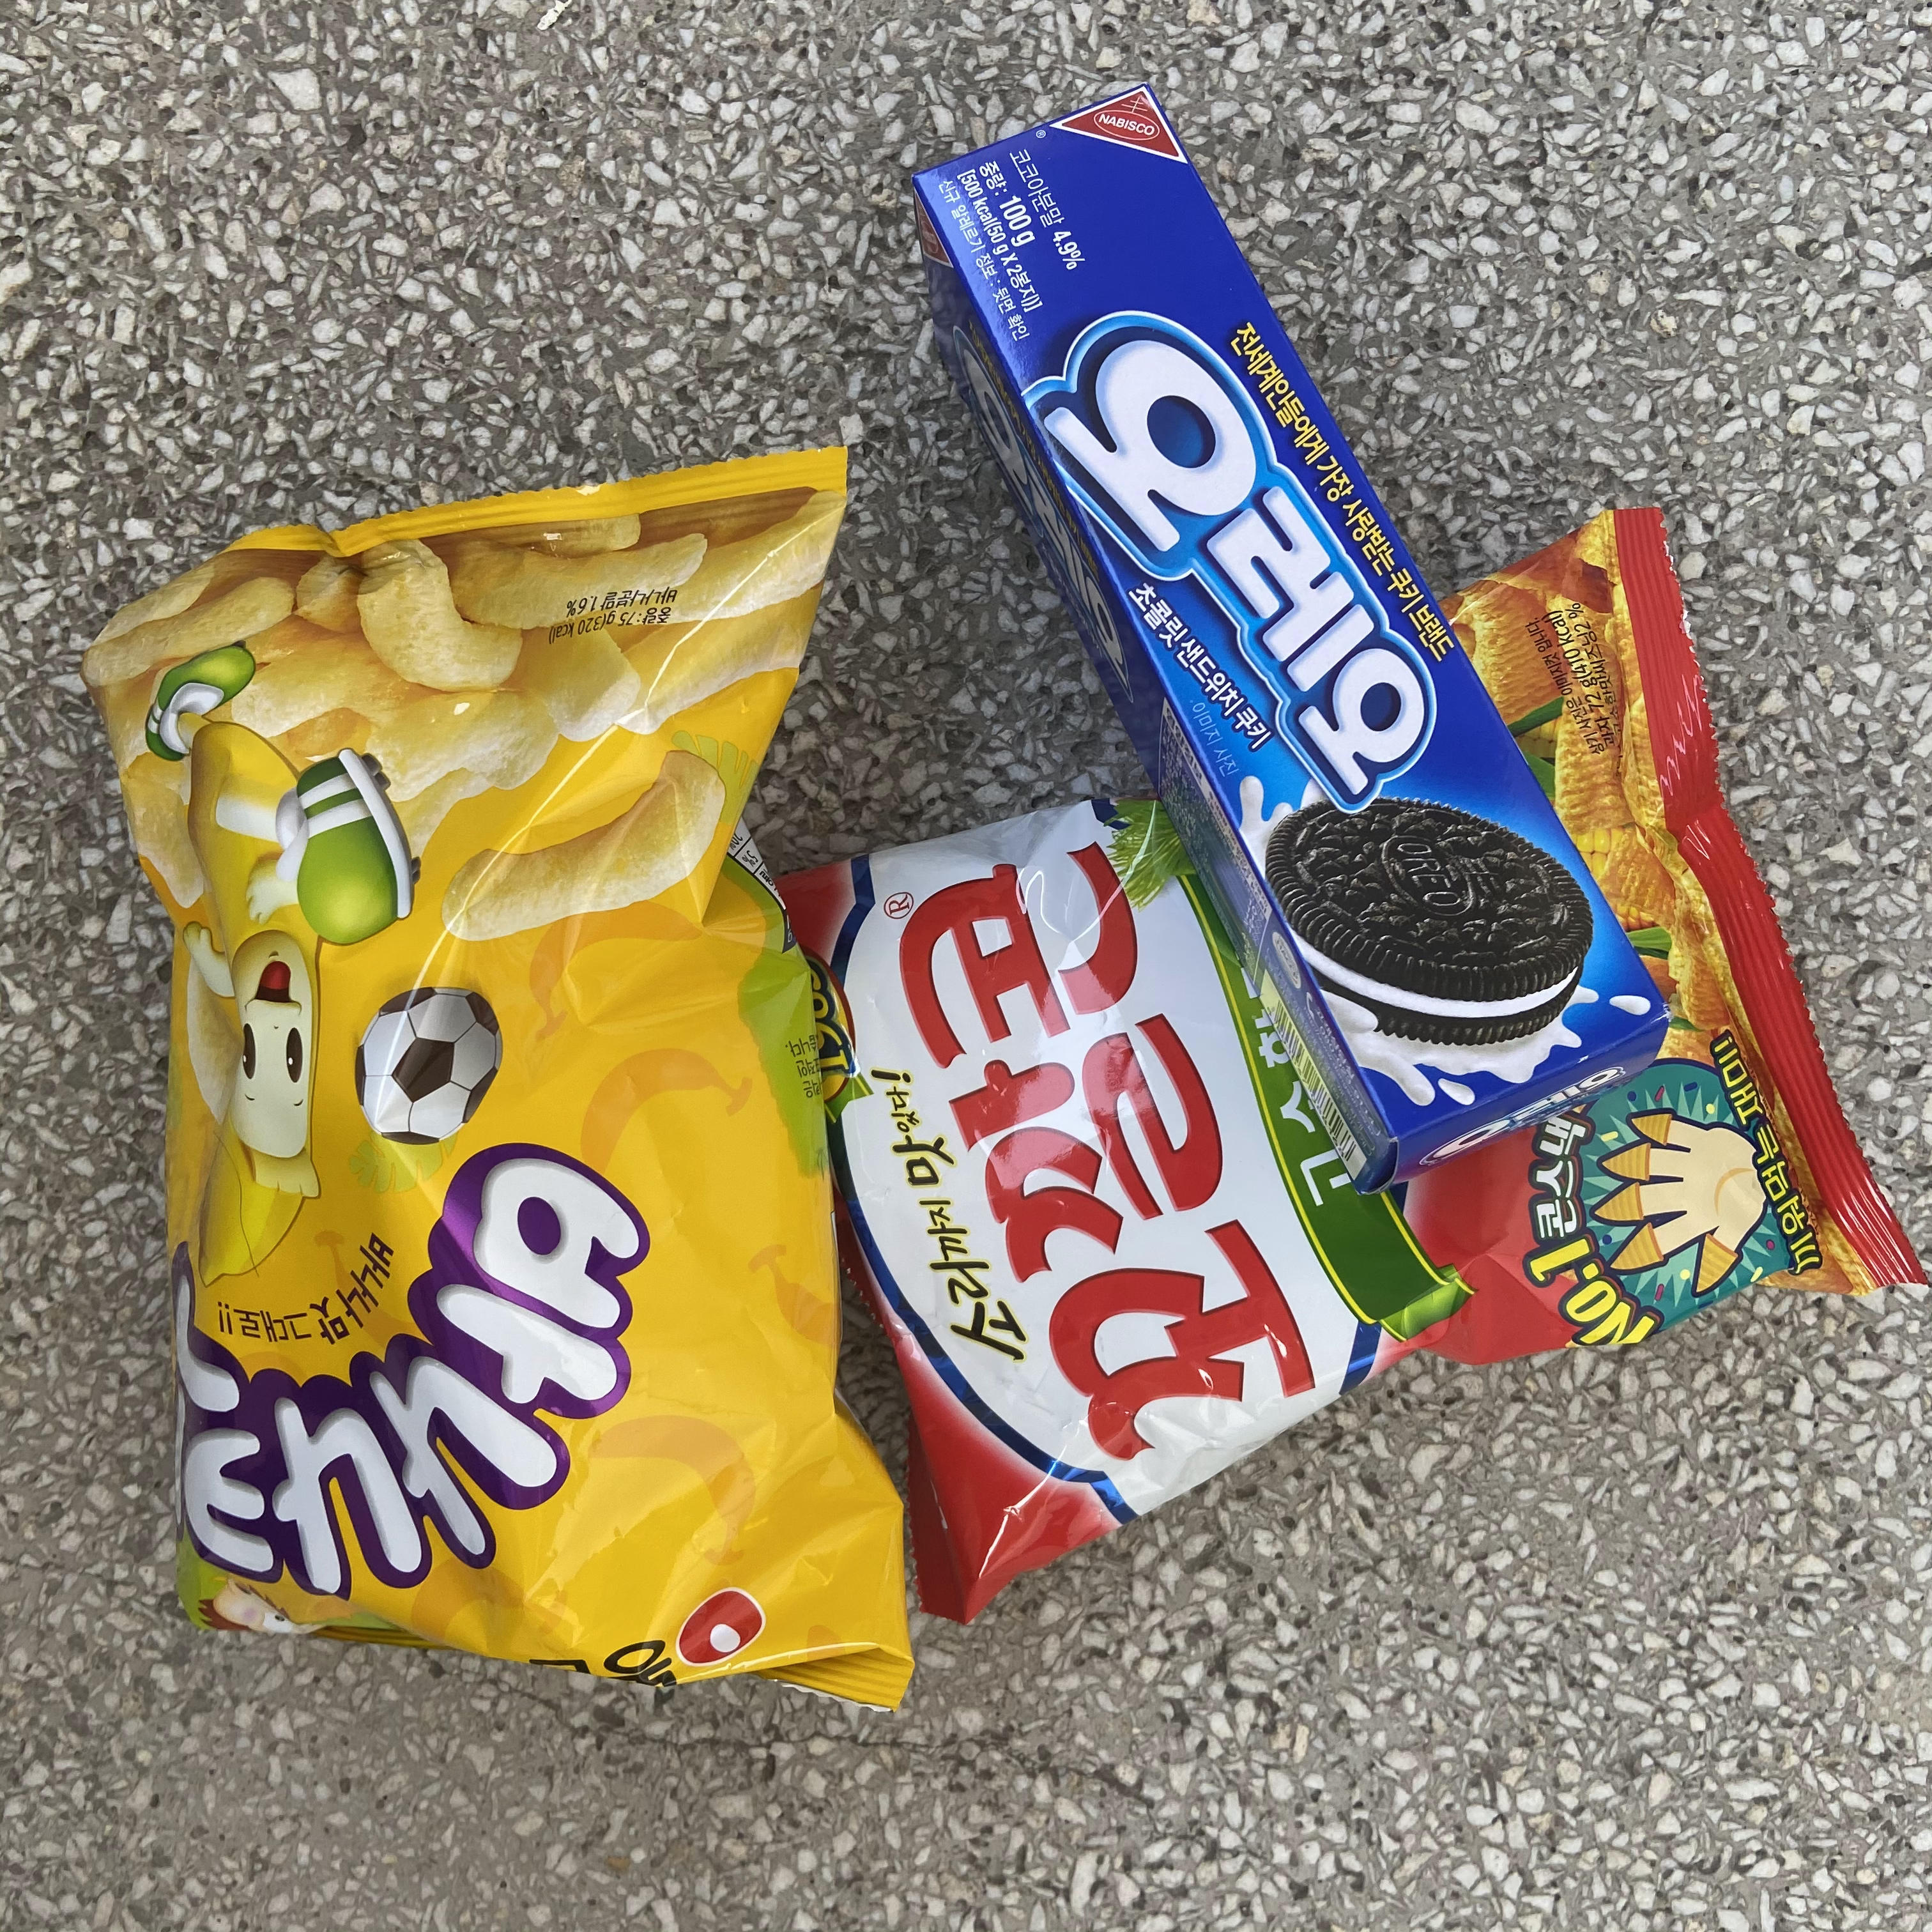banana: (65, 435, 925, 1737)
ggoggalcon: (738, 494, 1920, 1626)
oreo: (885, 71, 1679, 1214)
